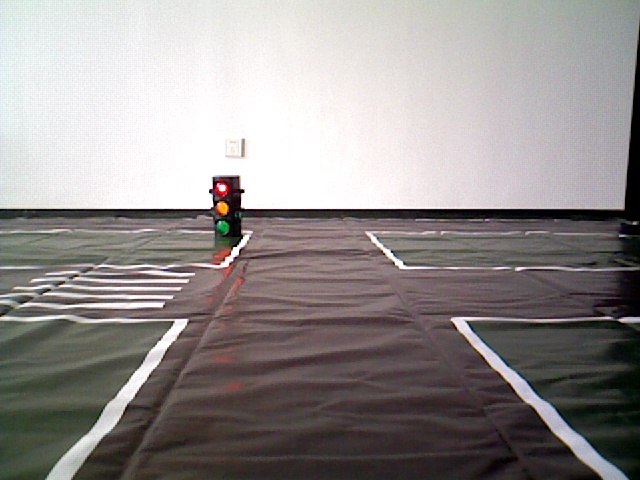red: (215, 177, 237, 238)
